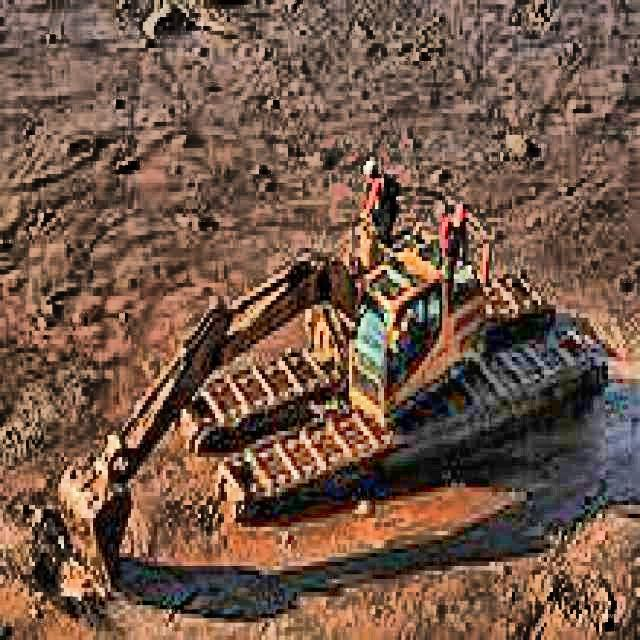bull_dozer/loader/grader: (56, 225, 596, 600)
person: (356, 156, 400, 253), (442, 201, 469, 305)
